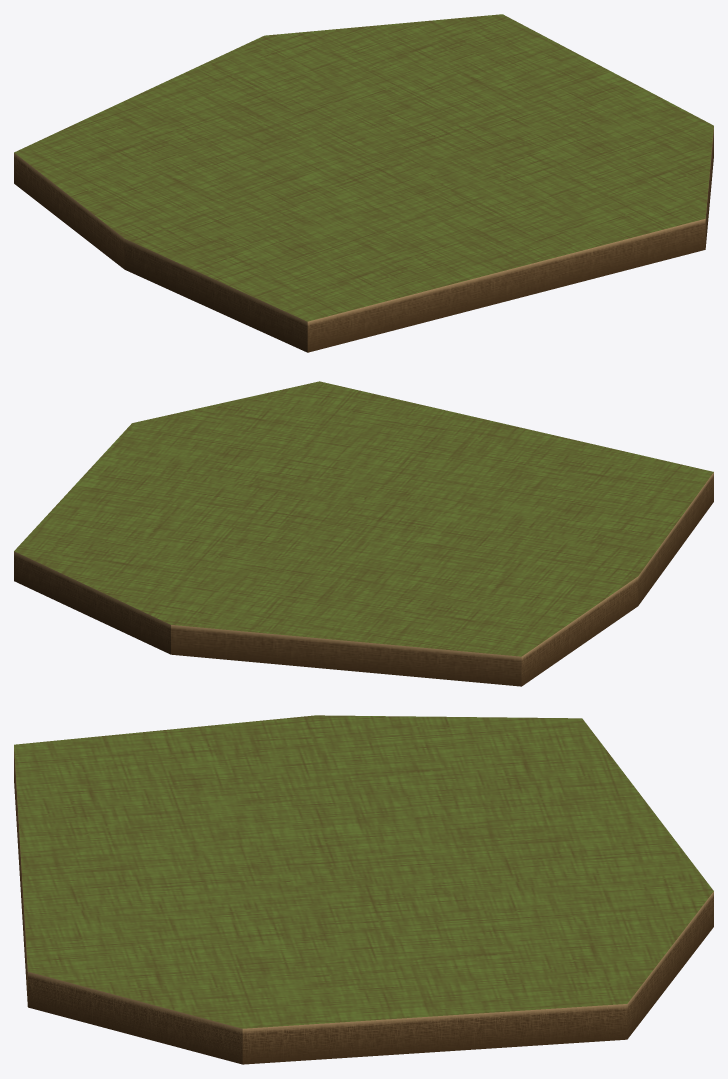
Rendered from Terrain03_F.FBX.
The picture shows the model from 3 angles, top to bottom: view 1: azimuth 30°, elevation 25°; view 2: azimuth 150°, elevation 25°; view 3: azimuth 270°, elevation 25°; orthographic projection. The views are drawn at different scales.
Parts seen in each view (by area): view 1: Terrain03_F; view 2: Terrain03_F; view 3: Terrain03_F.
Part boxes in pixels (x1,y1,x2,y2): Terrain03_F: [14, 14, 713, 352]; Terrain03_F: [14, 381, 713, 686]; Terrain03_F: [14, 715, 713, 1064].
Size of the model in its own units: 945 by 50.36 by 892.
Materials: 1 (1 with a texture image).
